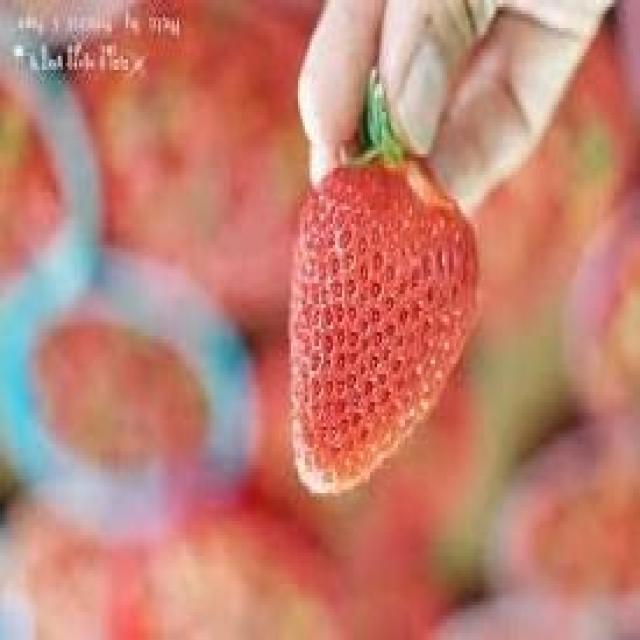mature: (287, 161, 477, 503)
